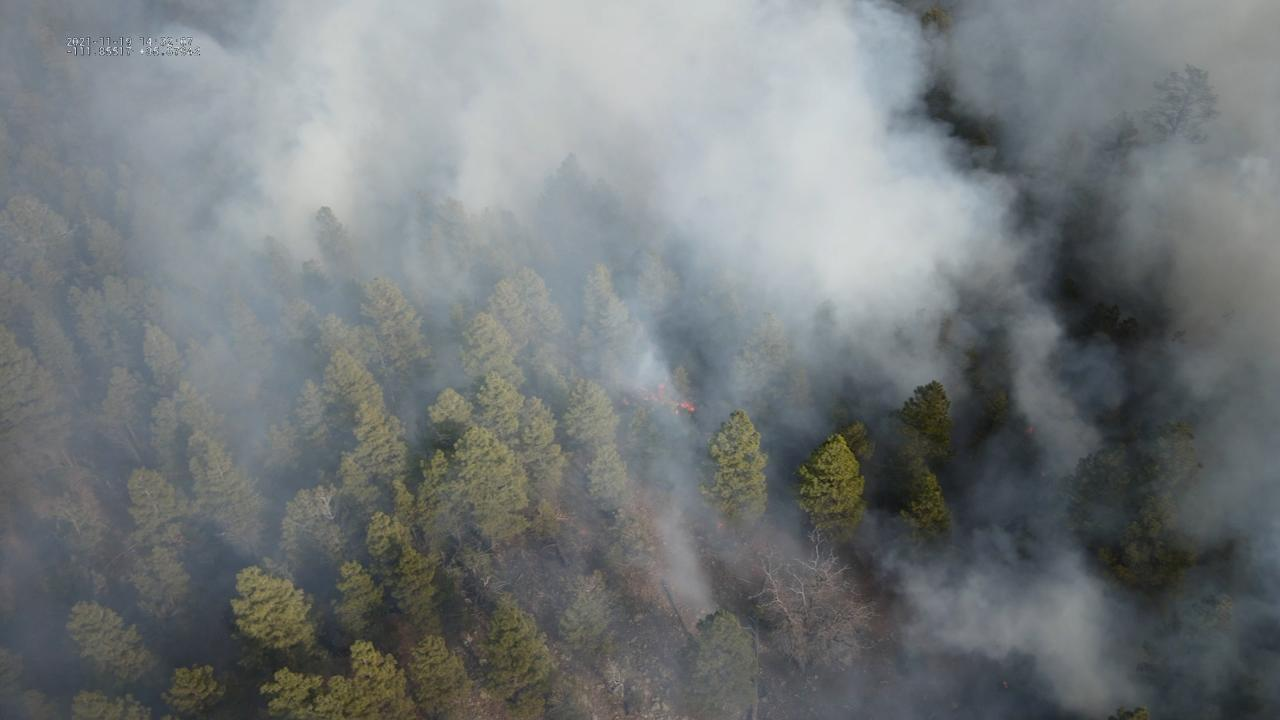fire: (655, 381, 696, 414), (1022, 424, 1036, 437)
smoke: (0, 0, 1280, 720)
